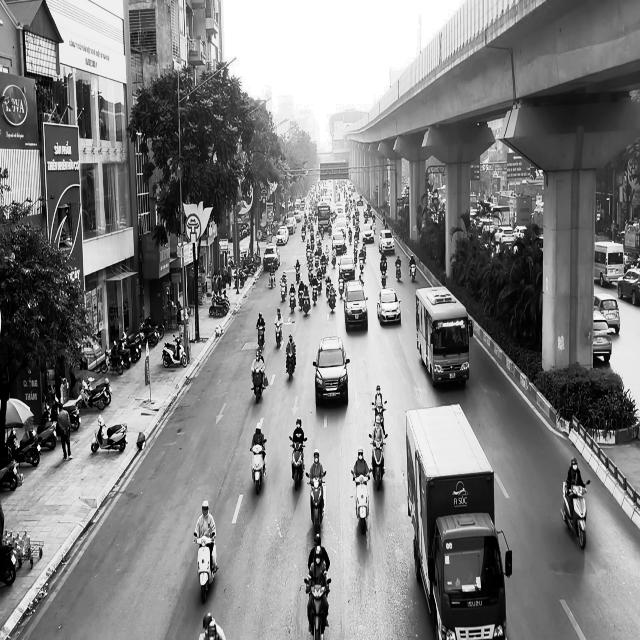bus: (414, 285, 472, 388)
car: (312, 335, 350, 406), (343, 280, 368, 331), (377, 288, 401, 325), (378, 229, 395, 254)
motorbike: (560, 479, 590, 549), (193, 532, 218, 603), (304, 576, 331, 639), (90, 414, 128, 454), (351, 468, 371, 533), (306, 471, 326, 535), (369, 432, 387, 490), (249, 438, 267, 494), (288, 436, 306, 490), (371, 399, 387, 436), (251, 366, 265, 403), (285, 347, 296, 382), (256, 325, 266, 352), (274, 321, 283, 349), (408, 263, 416, 282)
truck: (405, 402, 512, 639)
